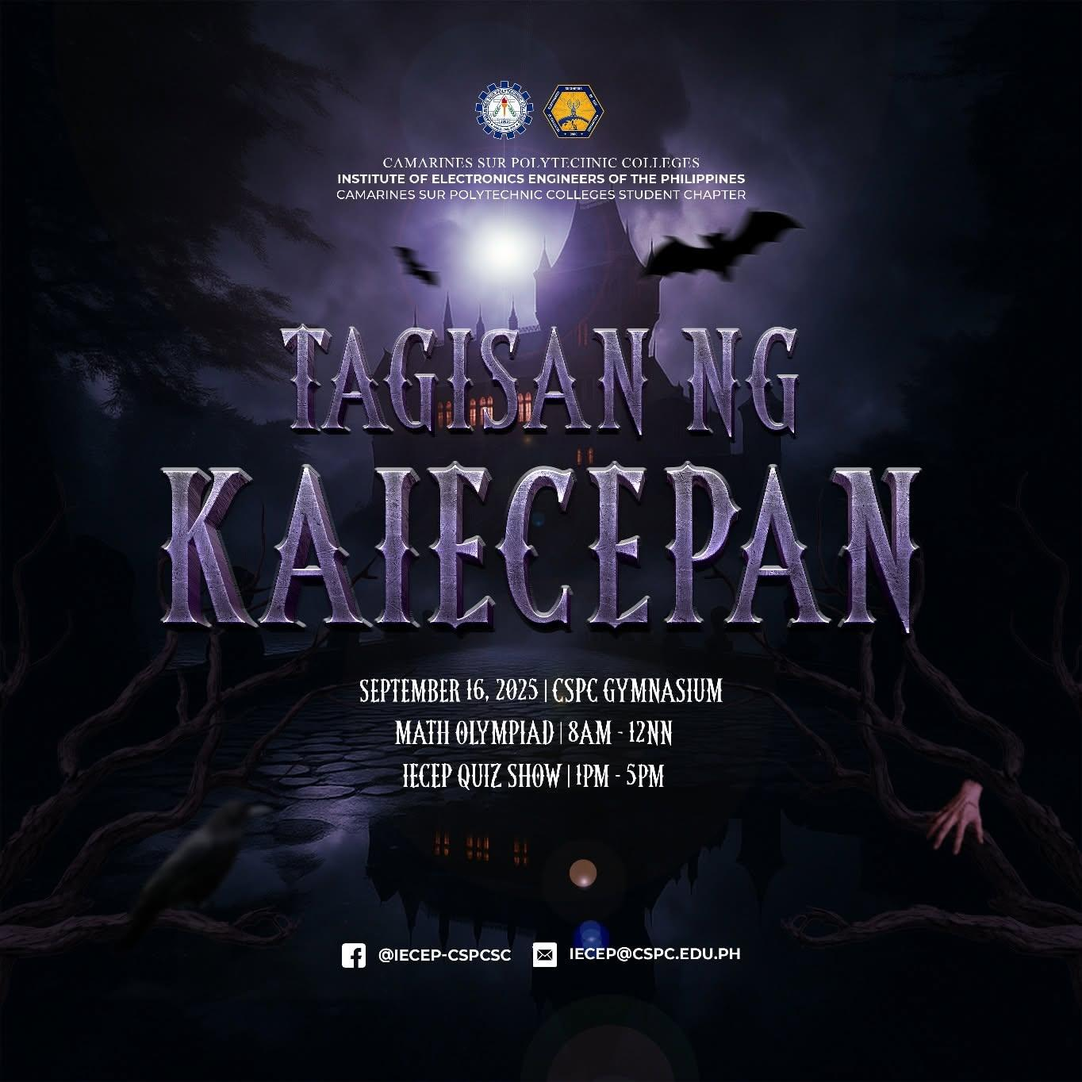embellishment: (338, 939, 369, 971), (530, 939, 561, 971)
logo: (539, 78, 611, 145), (469, 77, 539, 144)
text: (146, 455, 935, 646), (266, 313, 816, 454), (354, 670, 730, 796), (333, 151, 755, 206), (566, 943, 748, 965), (374, 943, 515, 966)
